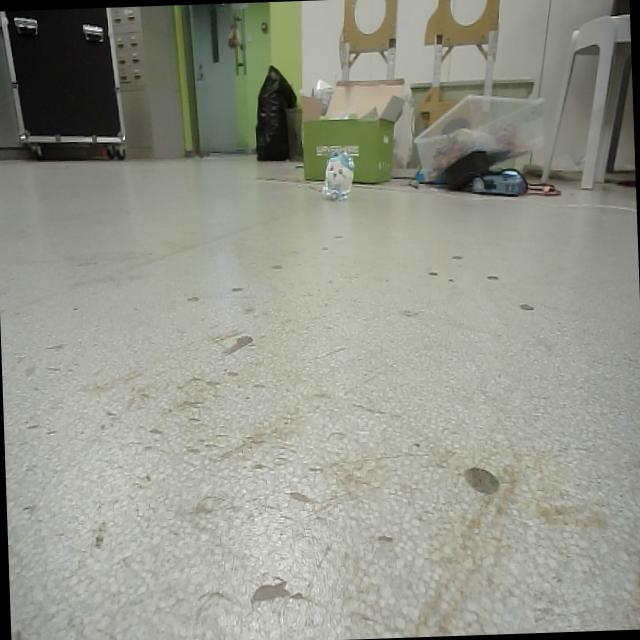xiaoba: (319, 150, 357, 202)
